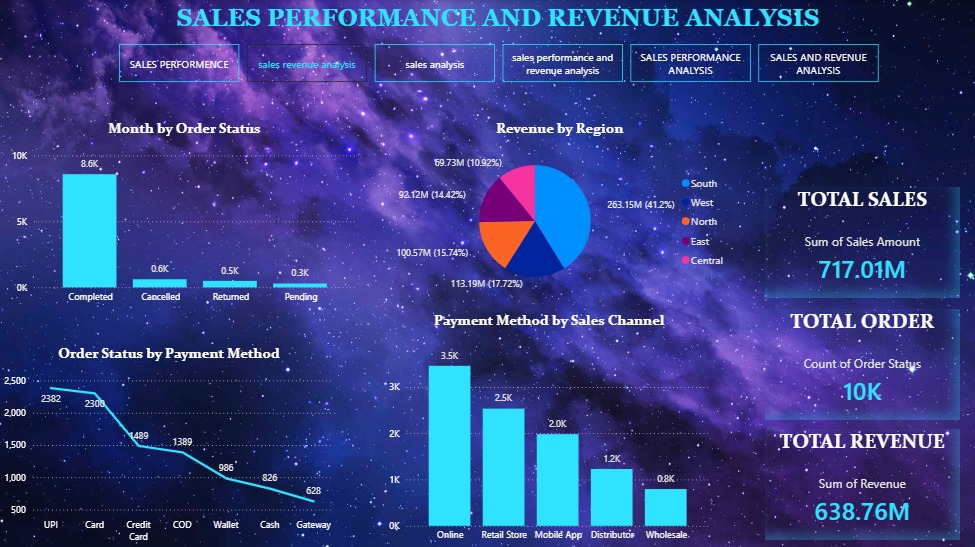

The page's visual inventory and layout, read from the dashboard file:
{"tool":"powerbi","page":{"name":"sales revenue analysis","canvas":[1280,720],"ordinal":1},"visuals":[{"type":"textbox","box":[228.5,0,858.8,57.8],"z":0,"group":"g1"},{"type":"pageNavigator","box":[156.9,57.8,1000,50],"z":1000,"group":"g1"},{"type":"lineChart","title":"Order Status by Payment Method","fields":{"Category":["Sales_Data.Payment Method"],"Y":["CountNonNull(Sales_Data.Order Status)"]},"box":[0,451.6,444.1,268.7],"z":3000},{"type":"columnChart","title":"Month by Order Status","fields":{"Category":["Sales_Data.Order Status"],"Y":["CountNonNull(Sales_Data.Month)"]},"box":[10,156.7,464,251.3],"z":4000},{"type":"columnChart","title":"Payment Method by Sales Channel","fields":{"Category":["Sales_Data.Sales Channel"],"Y":["CountNonNull(Sales_Data.Payment Method)"]},"box":[506.3,408,431.7,312.2],"z":5000},{"type":"pieChart","title":"Revenue by Region","fields":{"Category":["Sales_Data.Region"],"Y":["Sum(Sales_Data.Revenue)"]},"box":[506.3,156.7,459,233.9],"z":6000},{"type":"cardVisual","title":"TOTAL SALES","fields":{"Data":["Sum(Sales_Data.Sales Amount)"]},"box":[1005.4,246,256,145.9],"z":6001},{"type":"cardVisual","title":"TOTAL ORDER","fields":{"Data":["CountNonNull(Sales_Data.Order Status)"]},"box":[1005.4,406.2,256,145.9],"z":6002},{"type":"cardVisual","title":"TOTAL REVENUE","fields":{"Data":["Sum(Sales_Data.Revenue)"]},"box":[1005.4,563.5,256,145.9],"z":6003},{"type":"group","id":"g1","title":"Header","box":[156.9,0,1000,107.8],"z":6004}]}

Visuals, with their boxes in screenshot pixels (x1, y1, x2, y2), scaled from the page's 1280x720 canvas onto the 975x547 screenshot:
textbox: [left=174, top=0, right=828, bottom=44]
pageNavigator: [left=120, top=44, right=881, bottom=82]
"Order Status by Payment Method" lineChart: [left=0, top=343, right=338, bottom=546]
"Month by Order Status" columnChart: [left=8, top=119, right=361, bottom=310]
"Payment Method by Sales Channel" columnChart: [left=386, top=310, right=714, bottom=546]
"Revenue by Region" pieChart: [left=386, top=119, right=735, bottom=297]
"TOTAL SALES" cardVisual: [left=766, top=187, right=961, bottom=298]
"TOTAL ORDER" cardVisual: [left=766, top=309, right=961, bottom=419]
"TOTAL REVENUE" cardVisual: [left=766, top=428, right=961, bottom=539]
"Header" group: [left=120, top=0, right=881, bottom=82]
